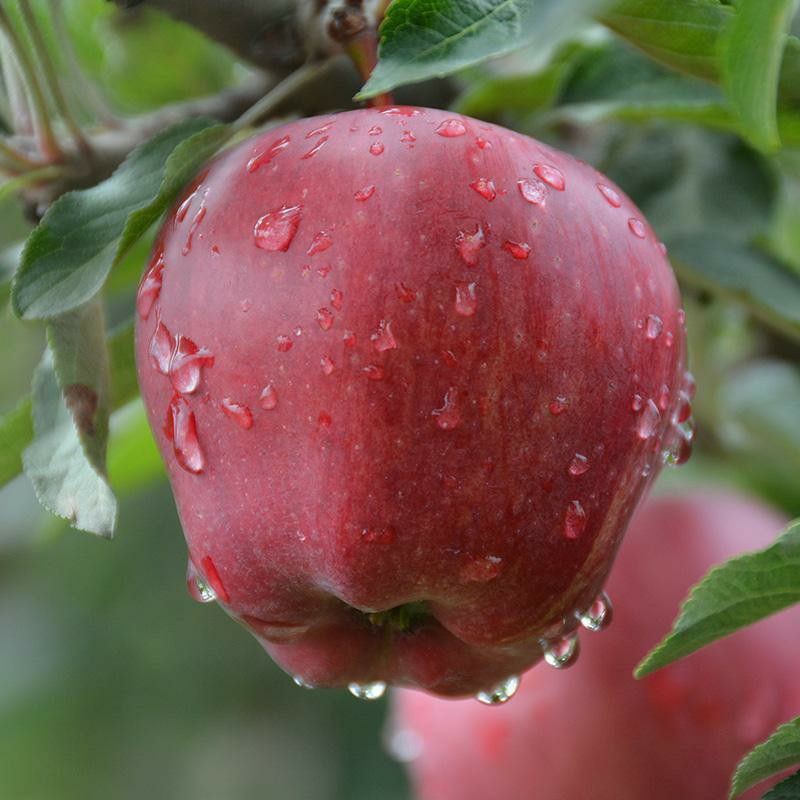fresh_apple: (145, 108, 685, 706)
